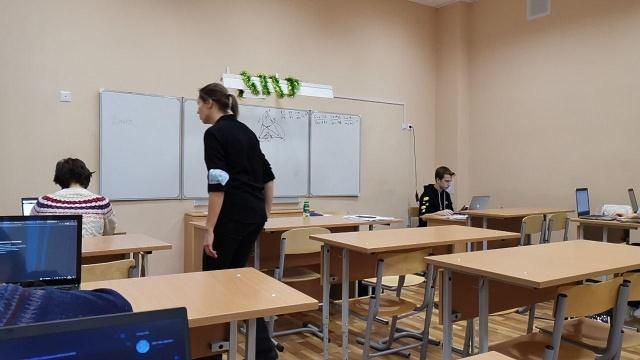Meja: (80, 265, 321, 356), (424, 237, 639, 300), (307, 222, 521, 258), (309, 108, 361, 200)
Whiteboard: (181, 95, 311, 199), (97, 88, 181, 203)
